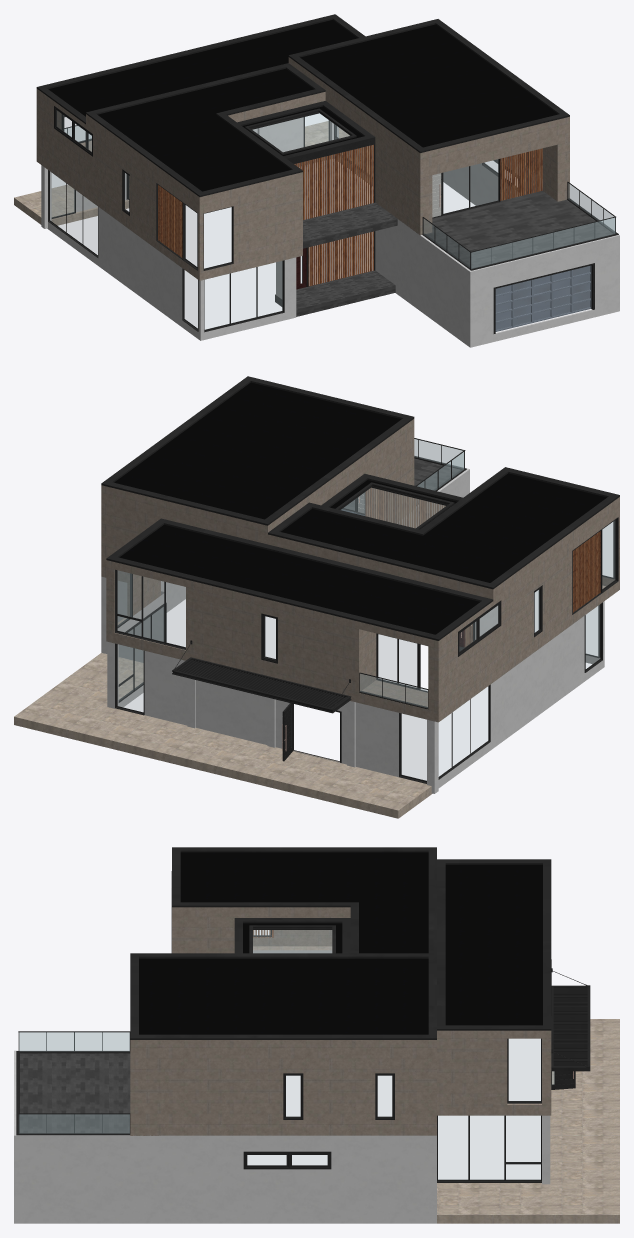
The model's file is LIVING_OBSERVATORY_LAYER_01_EXTERIOR.glb.
3 views of the same model, one above another, from view 1: azimuth 30°, elevation 25°; view 2: azimuth 150°, elevation 25°; view 3: azimuth 270°, elevation 25° (orthographic). The views are drawn at different scales.
Parts seen in each view (by area): view 1: SM_House_ext, SM_garage_door01; view 2: SM_House_ext, SM_ext_door02.001; view 3: SM_House_ext.
Boxes of the visible parts, box(x1,y1,x2,y2) form: SM_House_ext: box(14, 14, 619, 347); SM_garage_door01: box(495, 265, 591, 331); SM_House_ext: box(14, 376, 619, 818); SM_ext_door02.001: box(282, 703, 293, 761); SM_House_ext: box(14, 847, 619, 1223).
Size of the model in its own units: 2105 by 908 by 2689.
12 materials, 10 textured.
